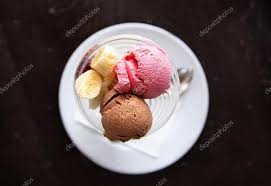ice-cream: (117, 47, 172, 97), (100, 94, 153, 142)
